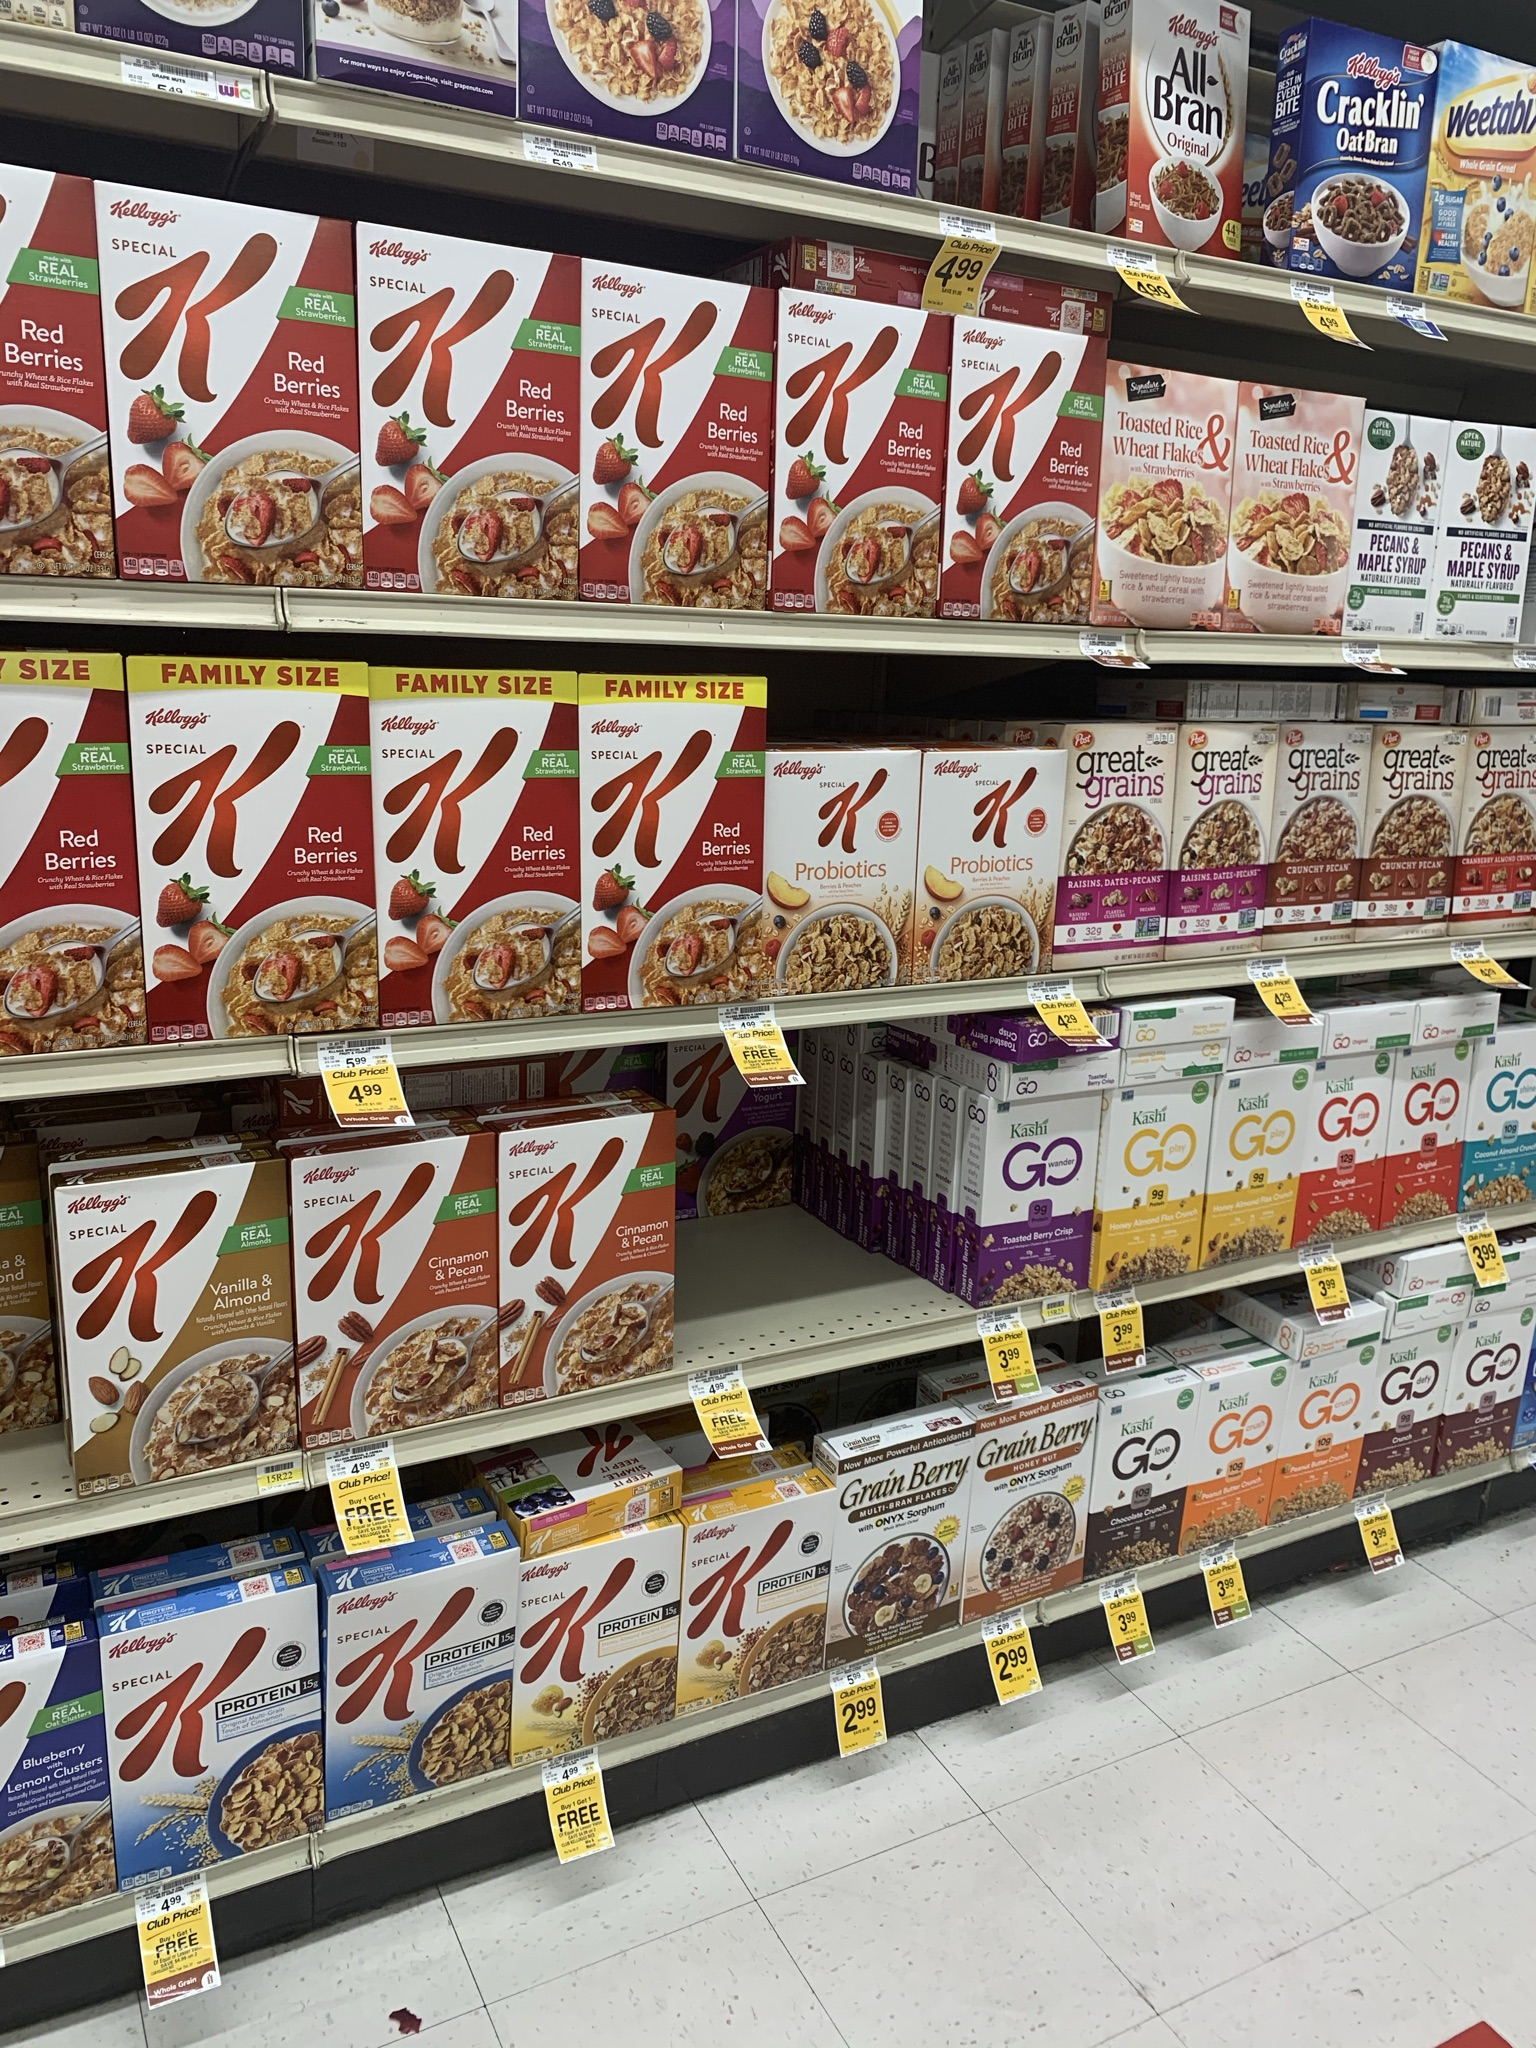cereal: (98, 177, 363, 585), (144, 661, 366, 1055), (353, 226, 578, 590), (371, 677, 579, 1035), (576, 256, 779, 613), (105, 1596, 316, 1919), (578, 672, 771, 1019), (63, 1192, 302, 1467), (284, 1150, 495, 1409), (318, 1566, 516, 1838), (774, 287, 939, 610), (495, 1119, 674, 1401), (511, 1514, 694, 1785), (942, 314, 1097, 622), (762, 753, 920, 1000), (682, 1496, 837, 1732), (916, 753, 1066, 993), (1229, 366, 1357, 643), (1099, 356, 1229, 626), (1309, 18, 1426, 289)
